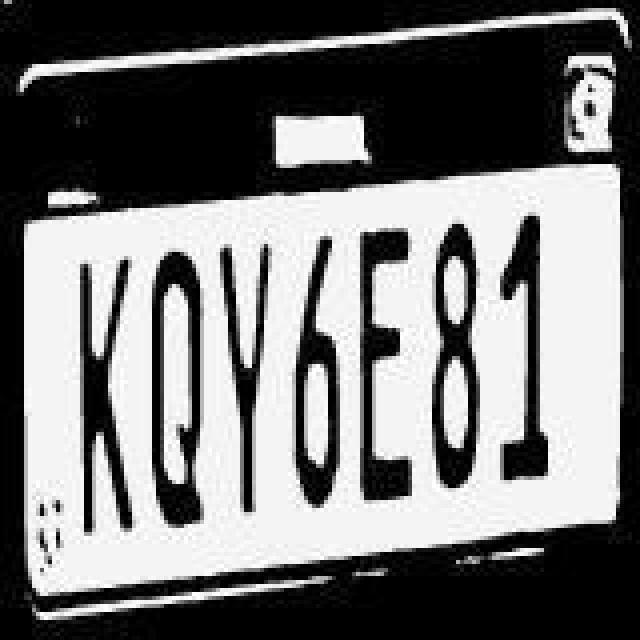1: (494, 210, 562, 486)
6: (290, 232, 350, 512)
8: (428, 218, 484, 494)
E: (360, 224, 424, 512)
K: (72, 242, 144, 534)
Q: (146, 244, 214, 532)
Y: (218, 234, 286, 518)
